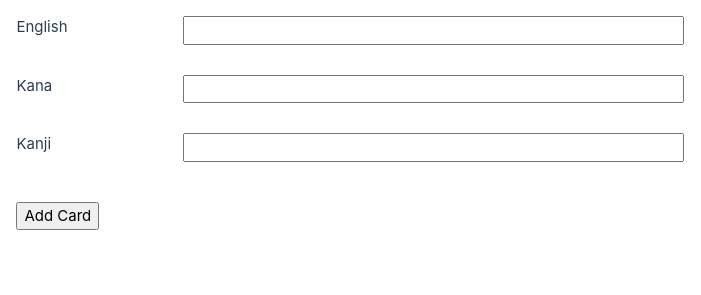
Scenario: AddCardView › when the data is valid › and the create request fails › shows the error message
Type "cat" into the field named "englishAnswer" next to "English". click: {"x": 433, "y": 30}
box: x1=183 y1=16 x2=684 y2=44
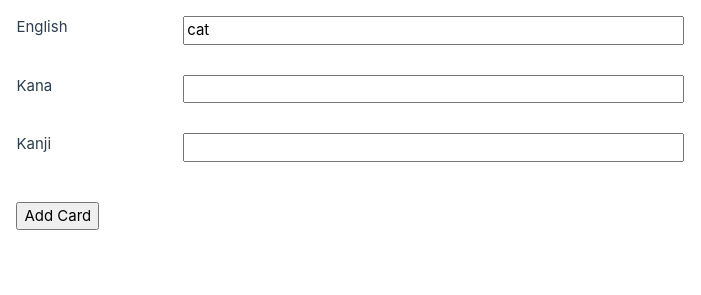
Type "ねこ" into the field named "japaneseKanaAnswer" next to "Kana". click: {"x": 433, "y": 89}
box: x1=183 y1=74 x2=684 y2=103
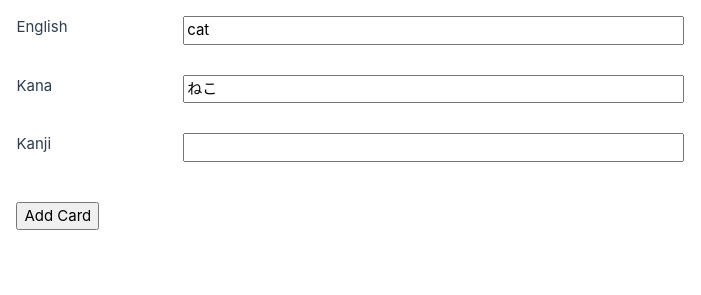
Type "猫" into the field named "japaneseKanjiAnswer" next to "Kanji". click: {"x": 433, "y": 147}
box: x1=183 y1=133 x2=684 y2=162
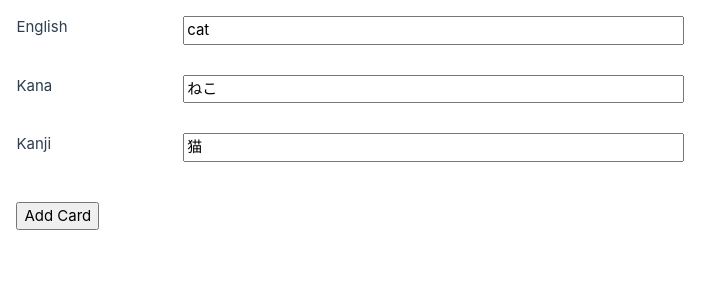
Submit the form
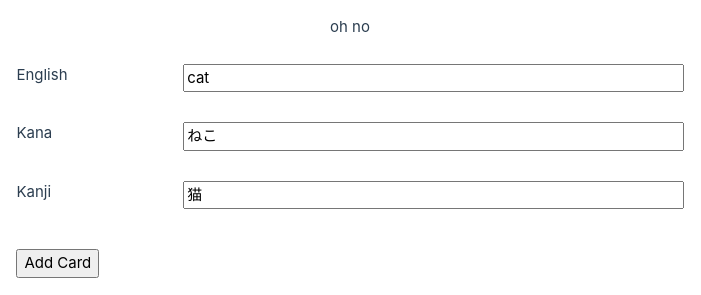
expect the text with class "error-message" reads "oh no": met, box x1=330 y1=17 x2=370 y2=36
